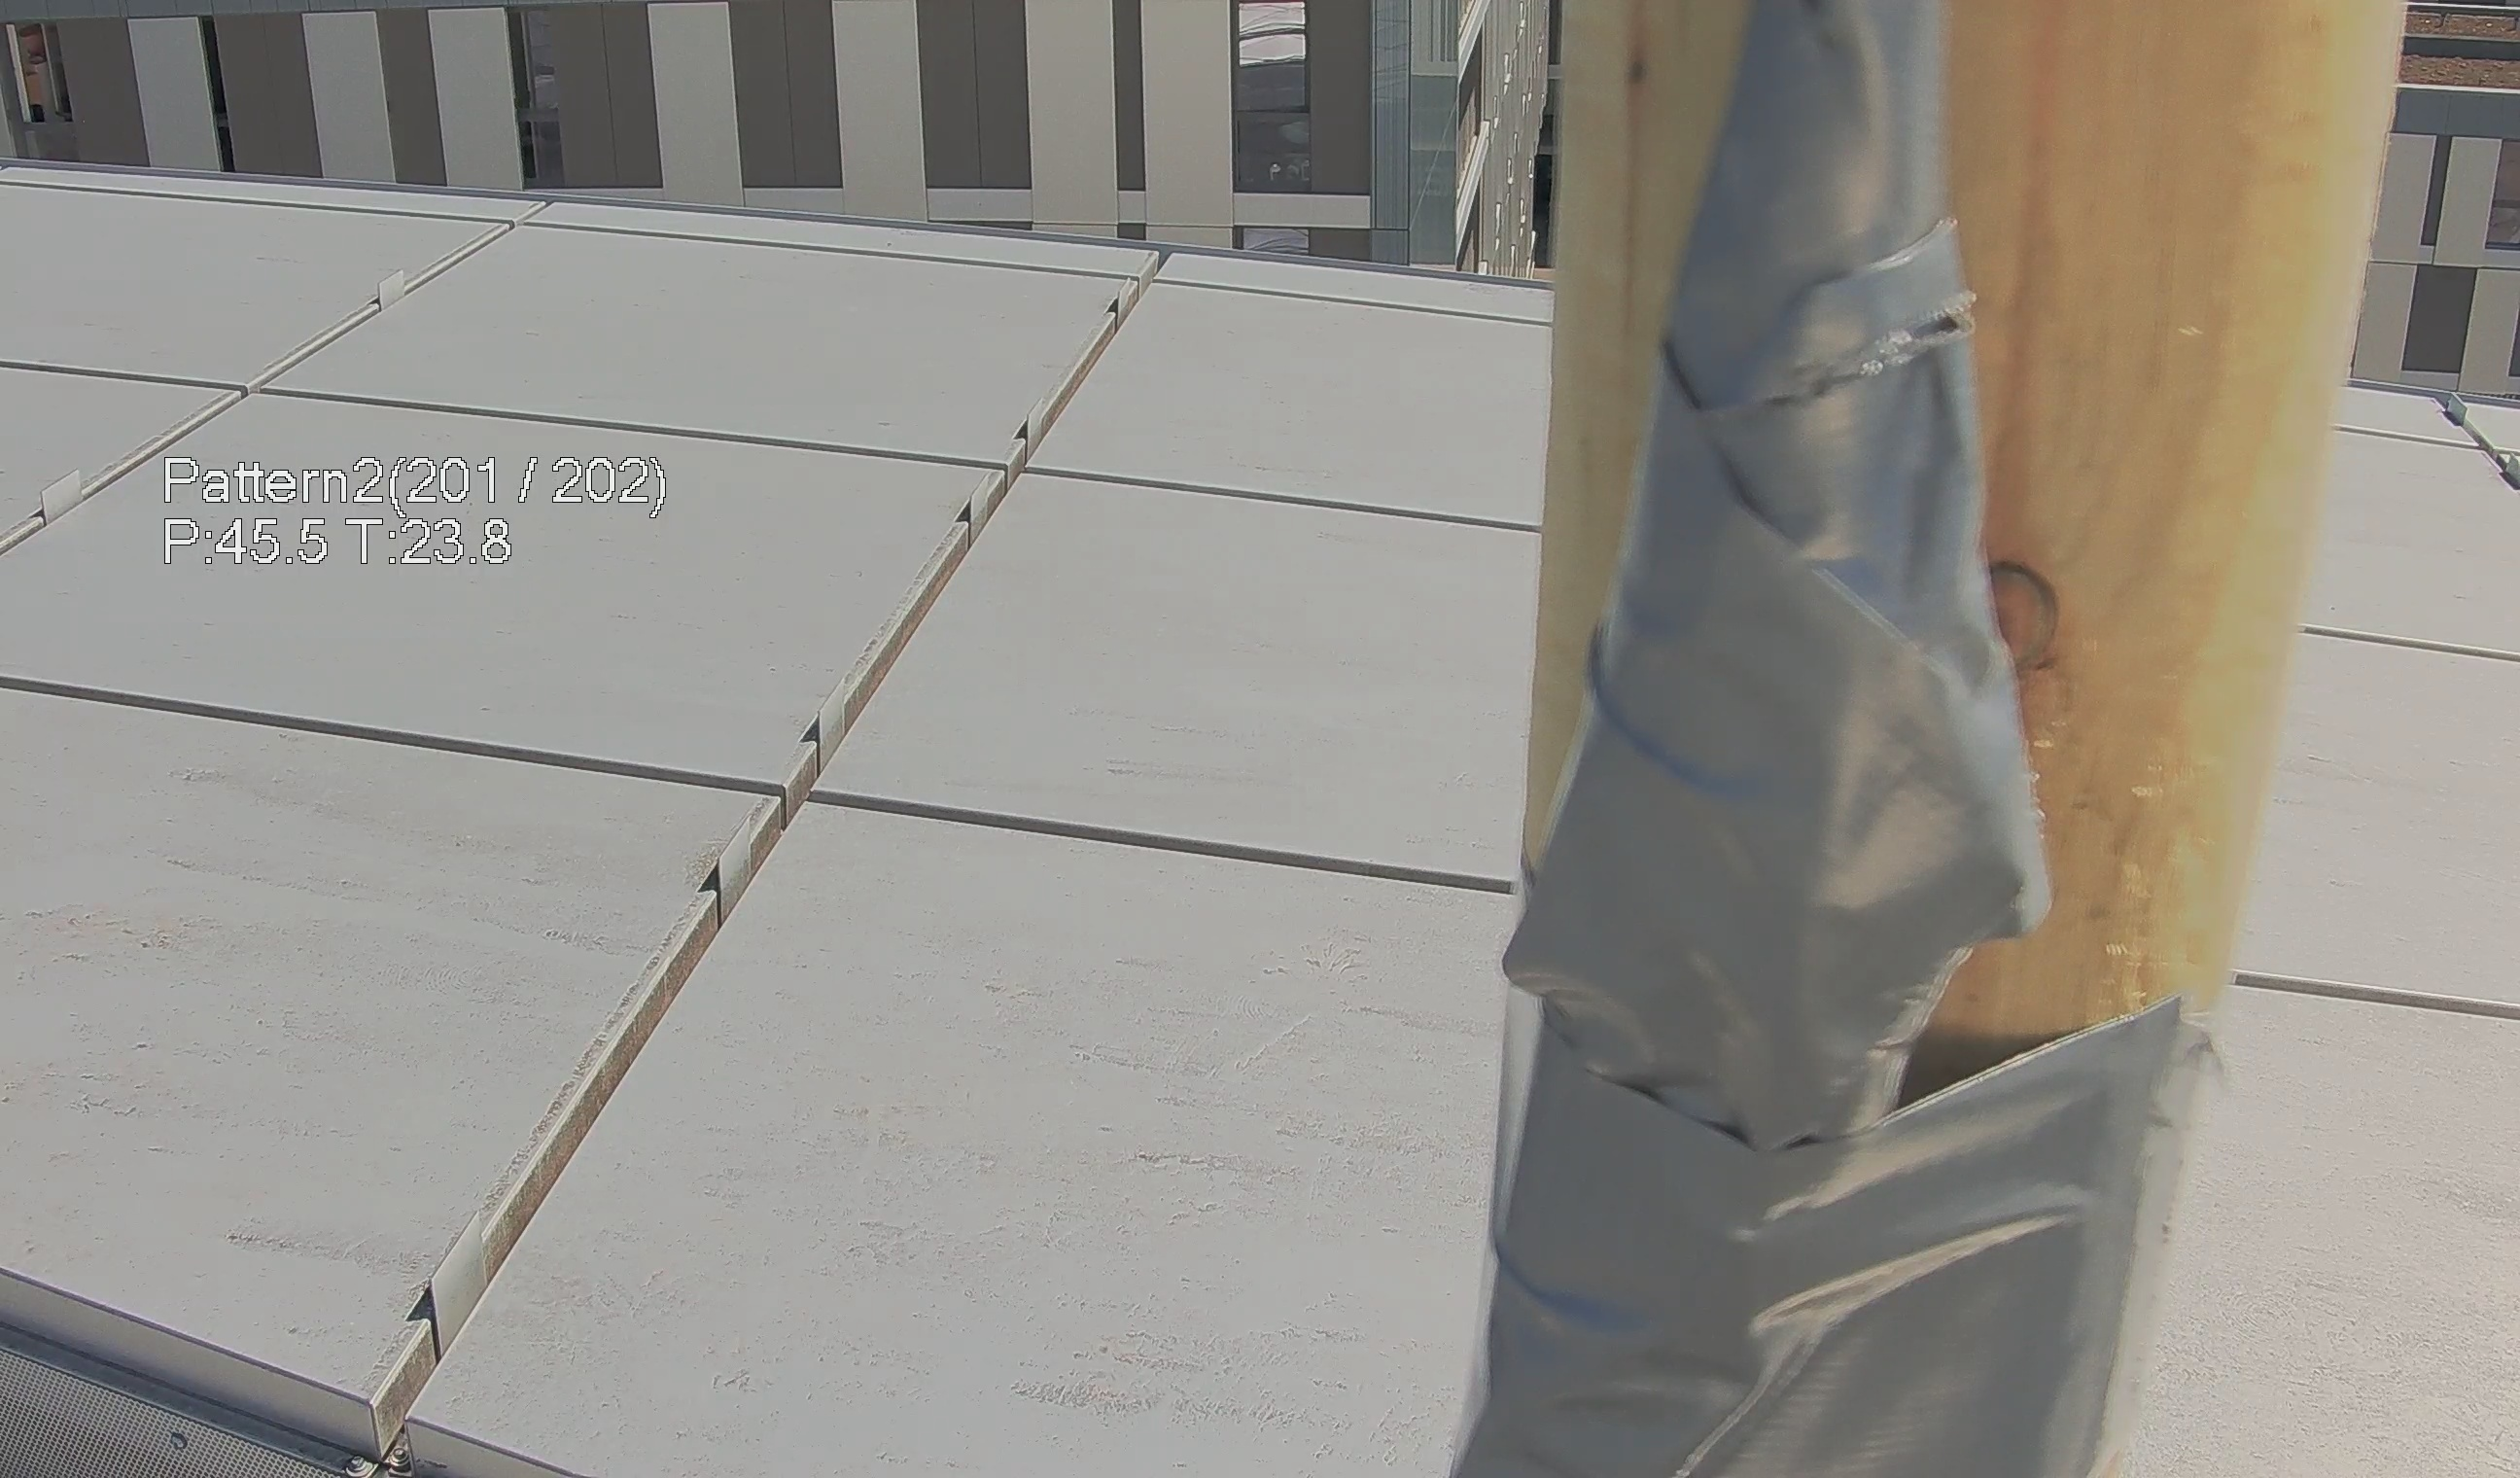Other: (1491, 49, 2105, 1225)
